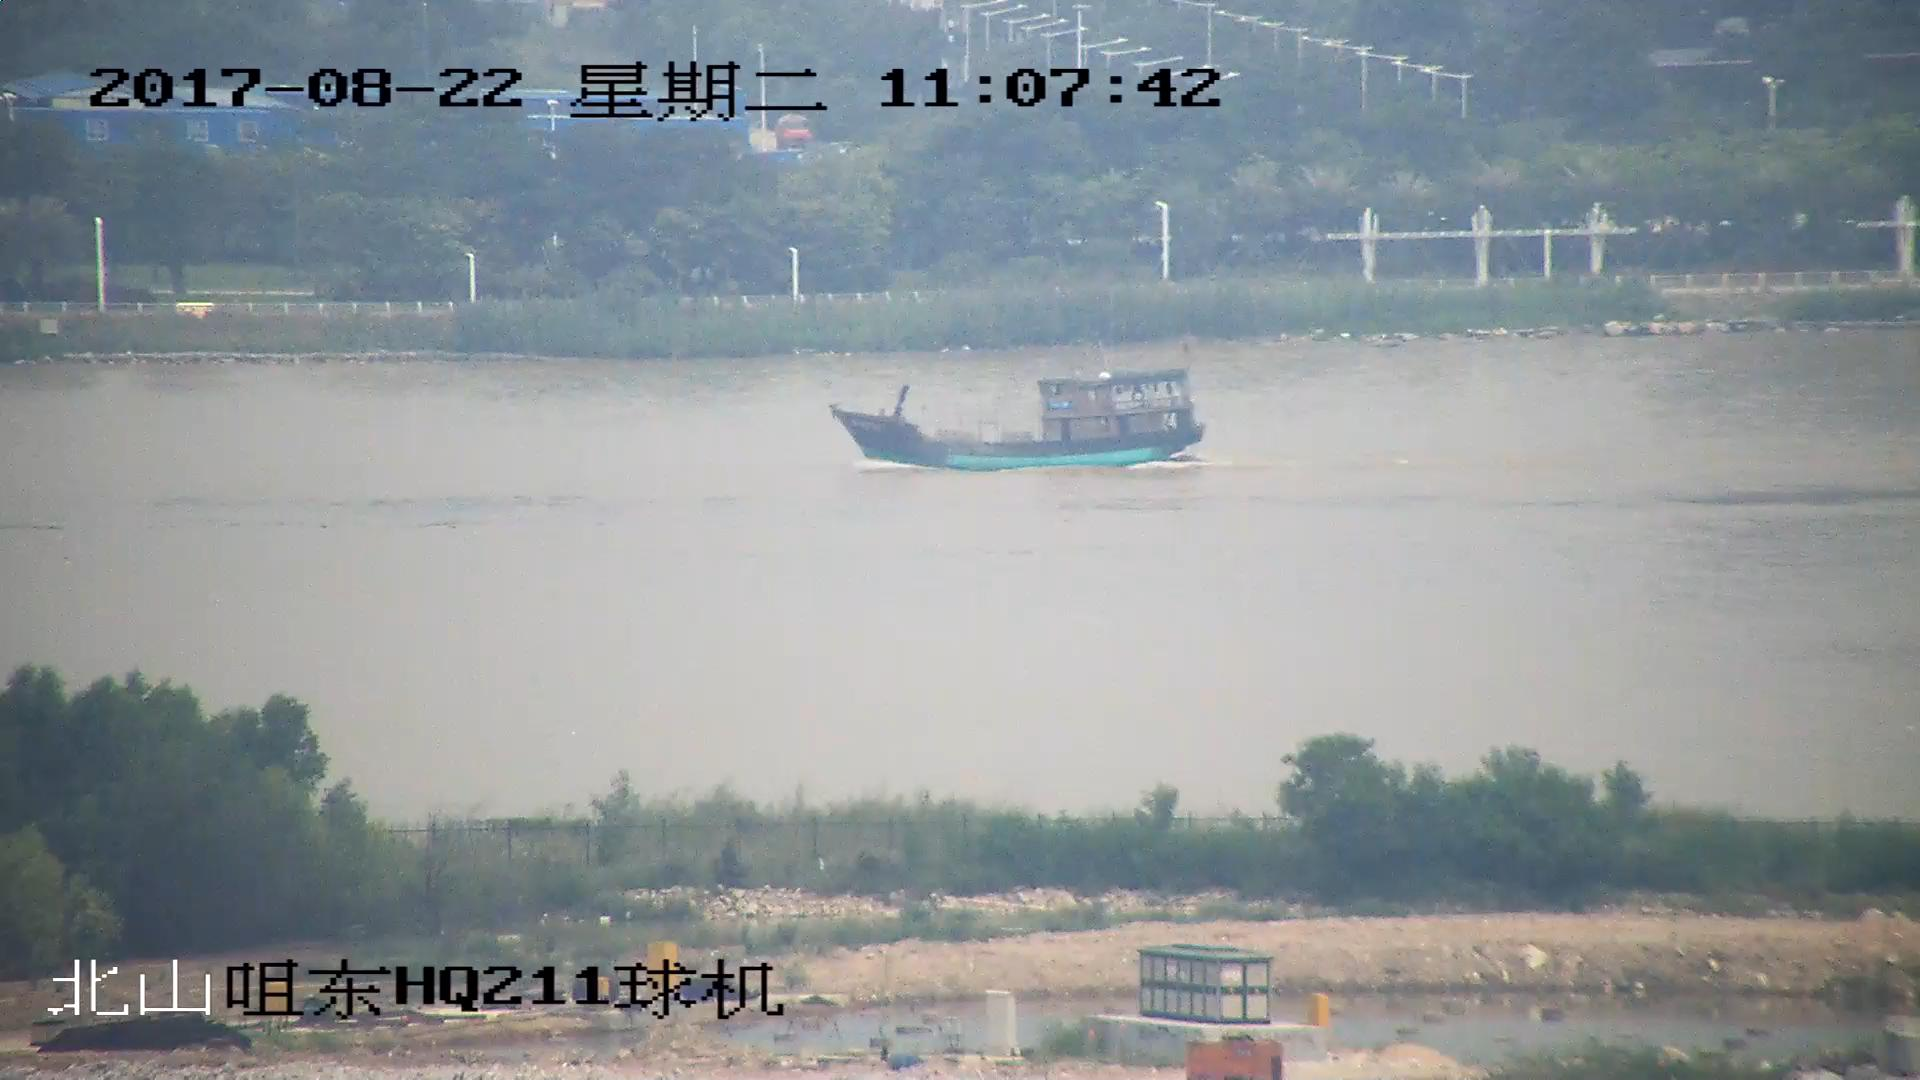fishing boat: (832, 365, 1202, 477)
